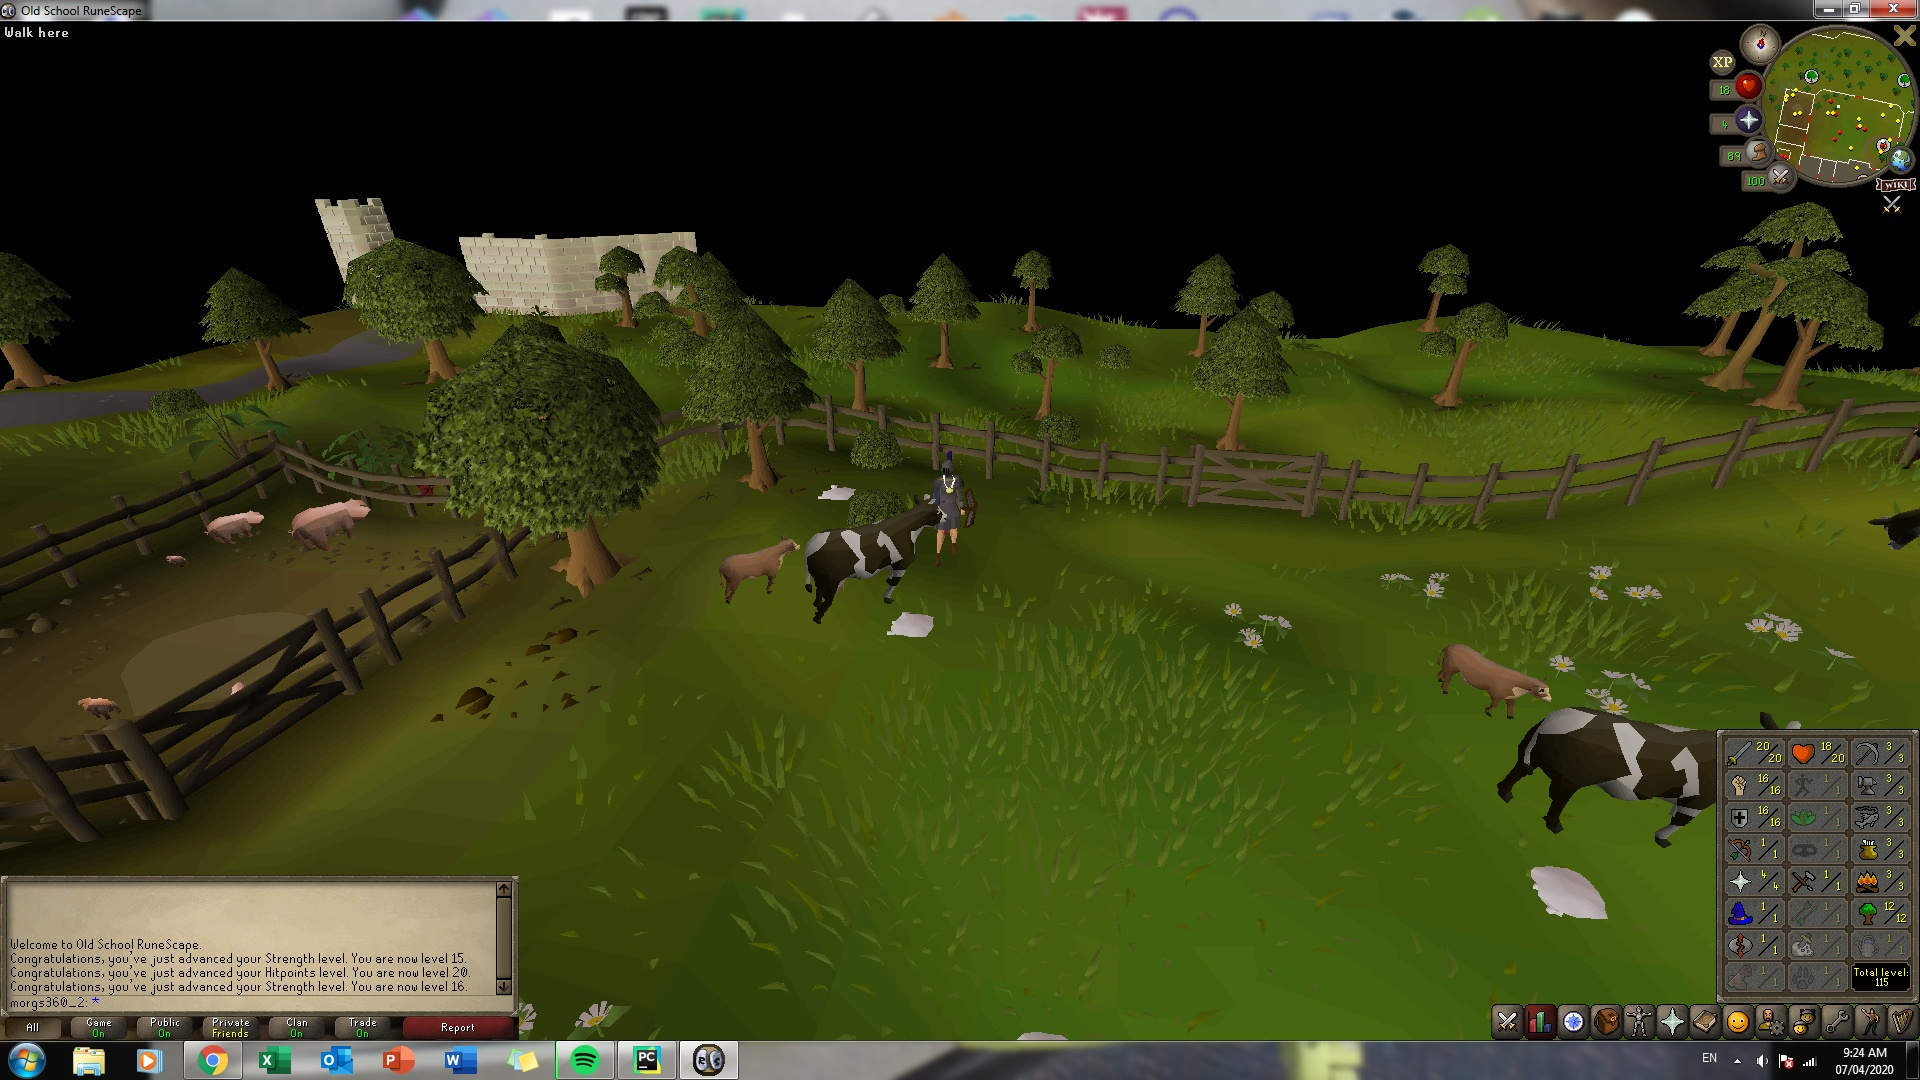cow: (1490, 699, 1716, 853), (803, 496, 948, 624)
